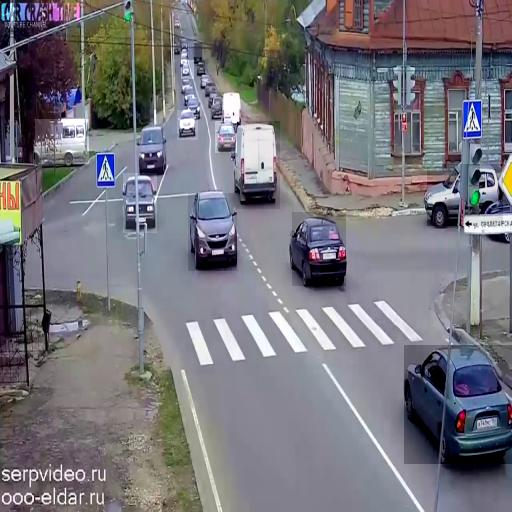小汽车: (404, 345, 512, 464), (428, 164, 504, 226), (234, 122, 280, 210), (292, 212, 346, 286), (188, 193, 237, 271), (35, 119, 89, 164), (123, 173, 157, 233), (136, 122, 166, 170), (215, 121, 237, 153), (177, 110, 198, 140), (210, 92, 224, 121), (188, 91, 202, 117), (181, 60, 194, 79), (195, 59, 208, 78)
